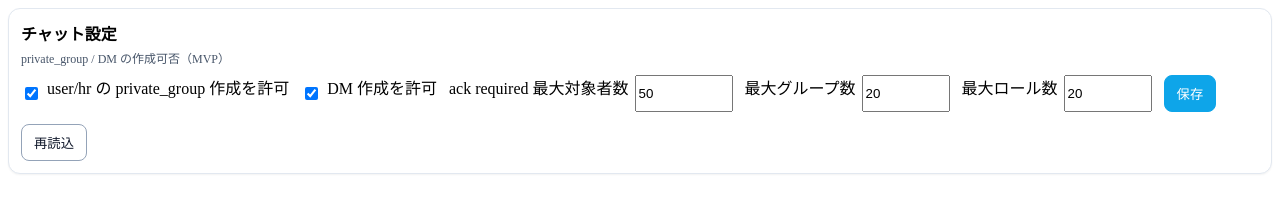
Test: ChatSettingsCard › sends the expected PATCH payload on save
Expected: the button "再読込" is enabled, x1=21 y1=124 x2=87 y2=161
Click the checkbox labelled "user/hr の private_group 作成を許可" at (32, 94), box x1=25 y1=78 x2=38 y2=109
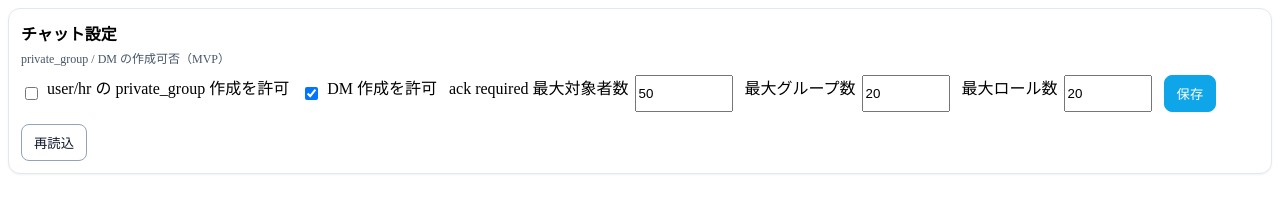
Click the checkbox labelled "DM 作成を許可" at (312, 94), box x1=305 y1=78 x2=318 y2=109
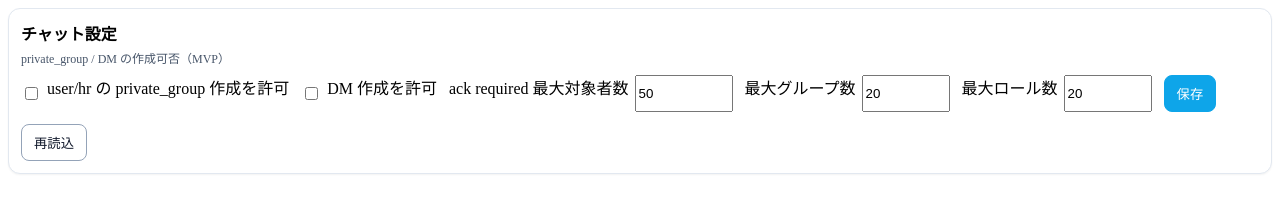
Replace the text in the number field labelled "ack required 最大対象者数" with "7" at (684, 94), box x1=634 y1=75 x2=732 y2=112
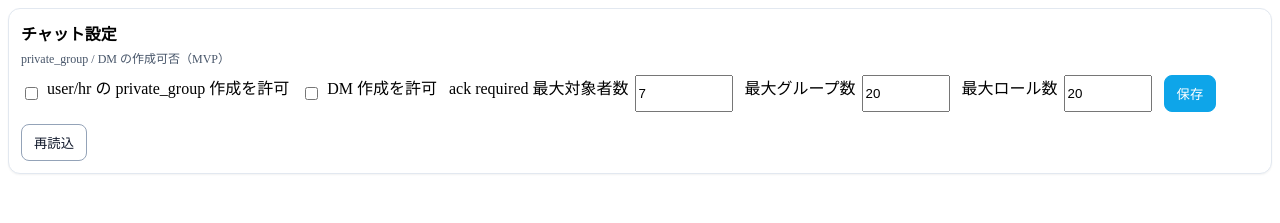
Replace the text in the number field labelled "最大グループ数" with "8" at (906, 94), box x1=862 y1=75 x2=950 y2=112
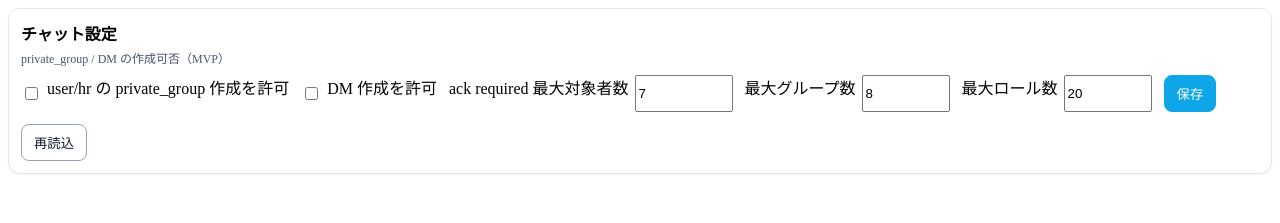
Replace the text in the number field labelled "最大ロール数" with "9" at (1108, 94), box x1=1064 y1=75 x2=1152 y2=112
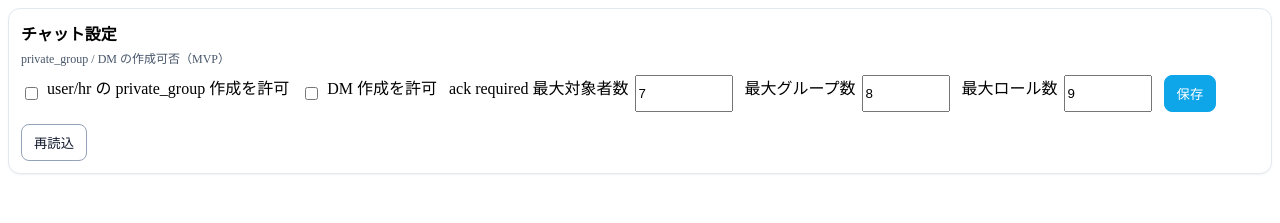
Click the button "保存" at (1190, 94), box x1=1164 y1=75 x2=1216 y2=112
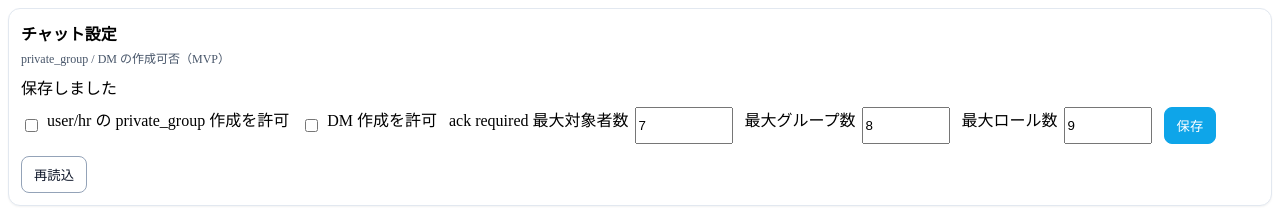
Result: the text "保存しました" is shown at x1=21 y1=80 x2=117 y2=97
